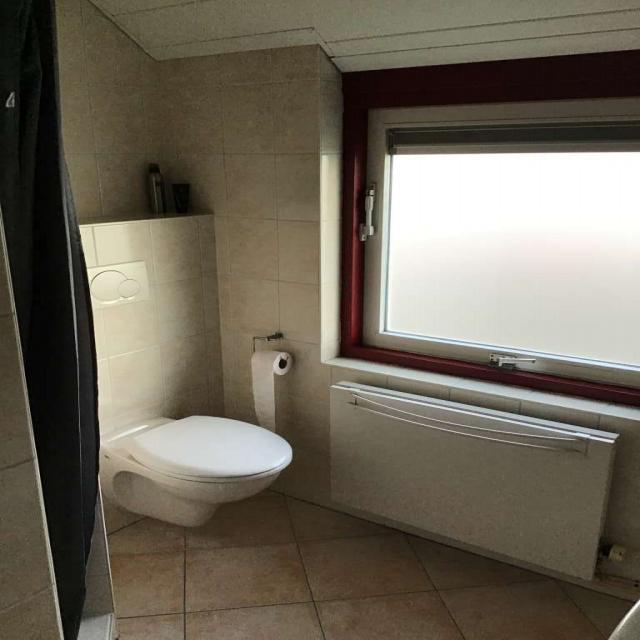douche: (0, 0, 121, 640)
toilet: (88, 256, 296, 532)
